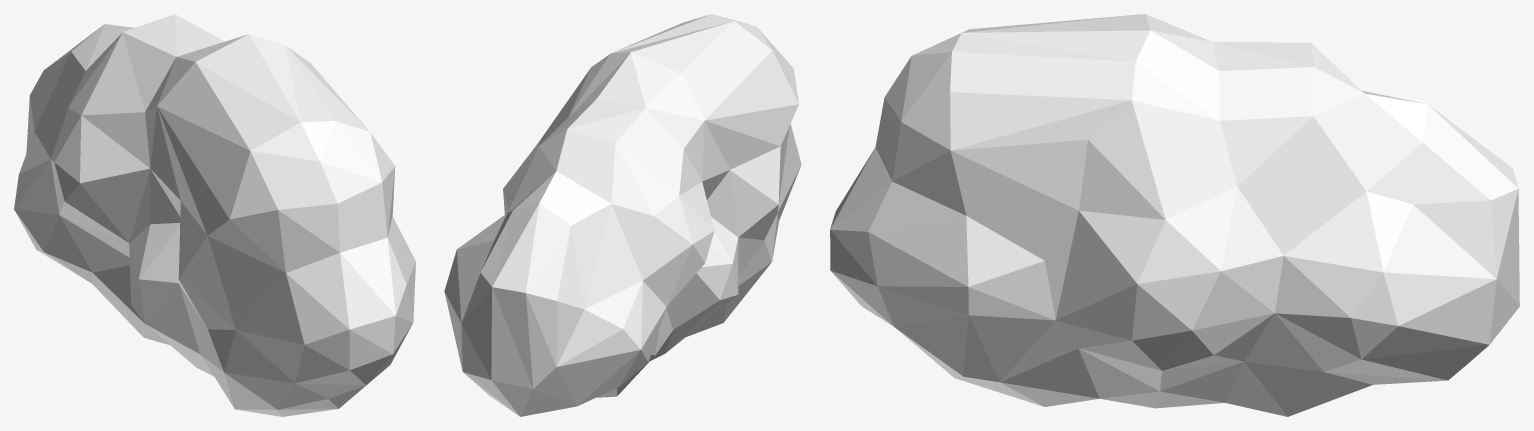
Rendered from SFM_Cloud_001.fbx.
3 renders of one model, left to right at view 1: azimuth 30°, elevation 25°; view 2: azimuth 150°, elevation 25°; view 3: azimuth 270°, elevation 25°, orthographic. The views are drawn at different scales.
Parts seen in each view (by area): view 1: SFM_Cloud_001; view 2: SFM_Cloud_001; view 3: SFM_Cloud_001.
Part boxes in pixels (x1,y1,x2,y2): SFM_Cloud_001: (14, 14, 415, 416); SFM_Cloud_001: (444, 14, 801, 416); SFM_Cloud_001: (830, 14, 1519, 416).
Size of the model in its own units: 507 by 648 by 1054.
